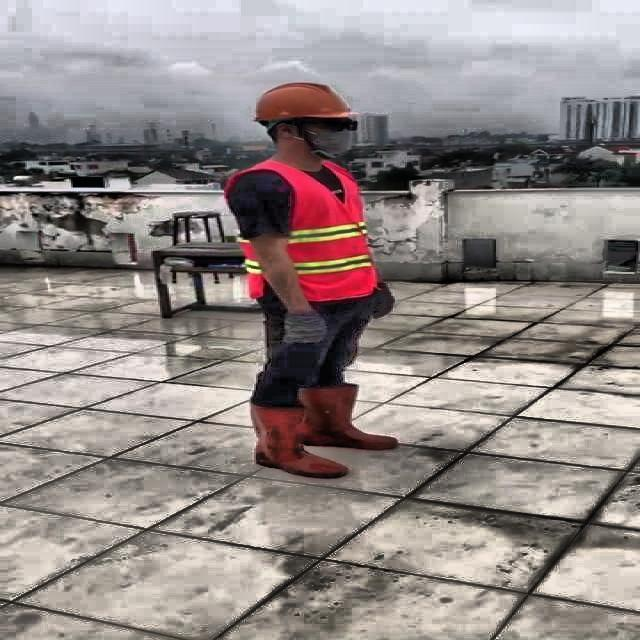safety_helmet: (249, 80, 355, 124)
safety_jacket: (224, 158, 380, 301)
